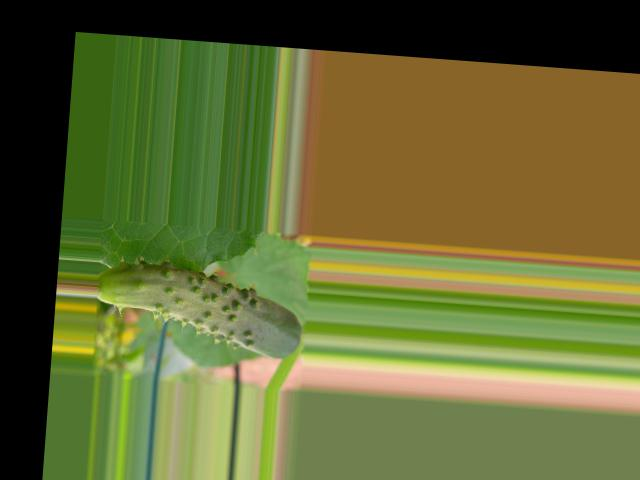cucumber: (94, 256, 307, 359)
